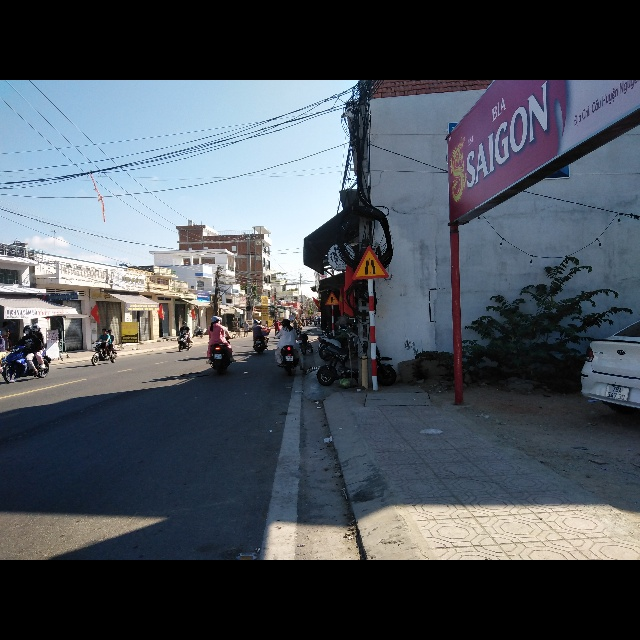Đường bị hẹp cả hai bên: (350, 247, 391, 280)
